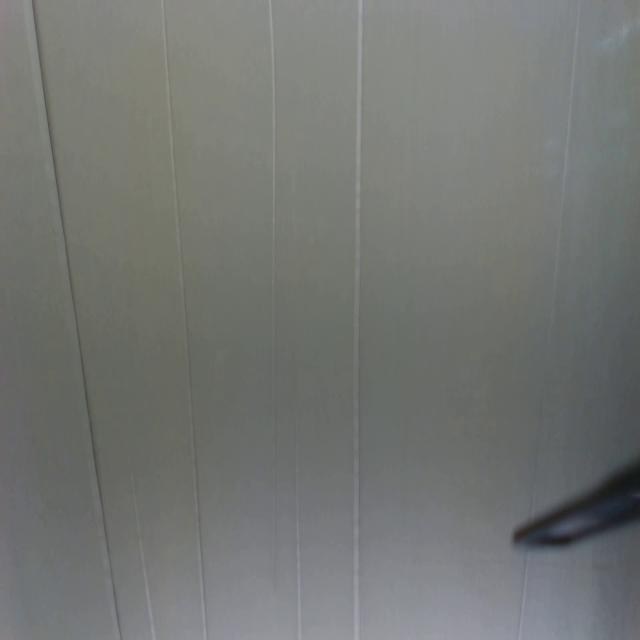crease: (31, 1, 122, 640), (162, 0, 210, 640), (534, 0, 584, 498), (352, 0, 363, 636), (268, 0, 279, 582), (127, 449, 156, 640), (293, 407, 303, 640), (517, 552, 531, 640)
